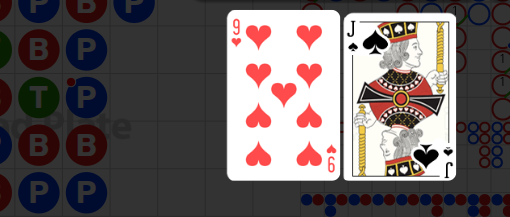9H: (230, 17, 243, 48)
JS: (411, 132, 455, 179), (344, 12, 388, 58)
